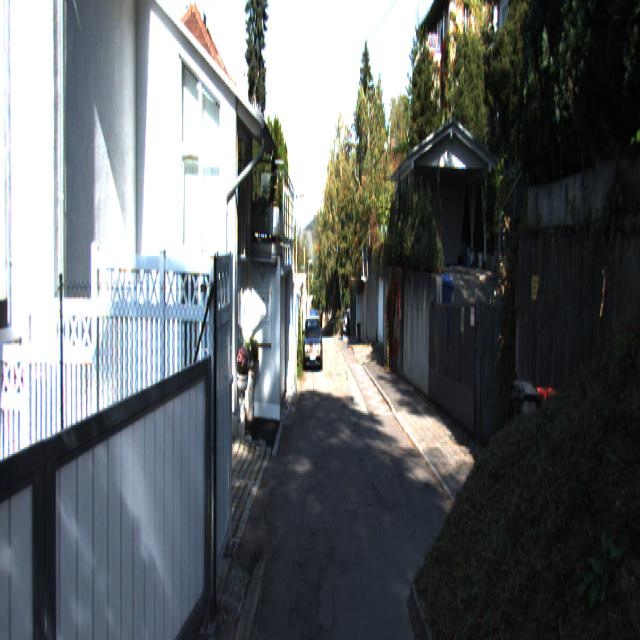Car: (303, 313, 322, 371)
